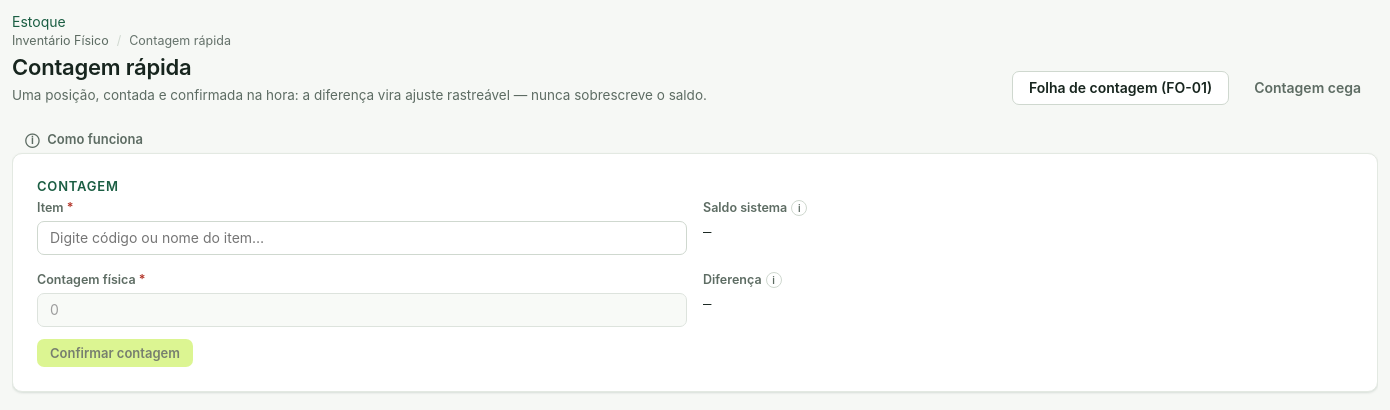
Inventário Físico — guarda de alterações não salvas › escolher o item é escopo, não contagem: ainda sai livre
Check: the heading "Contagem rápida" is shown, box [12,54,191,80]
In the dropdown with id "count-item": (362, 238) [37,221,687,255], type "MP-000001"
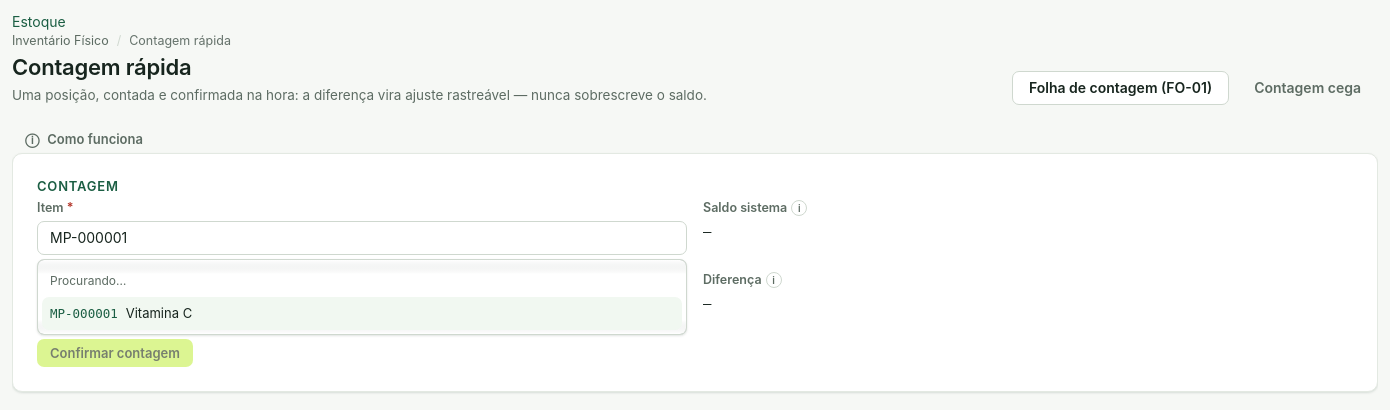
Press the mouse on the option "MP-000001 Vitamina C": (84, 314) [42,297,682,330]
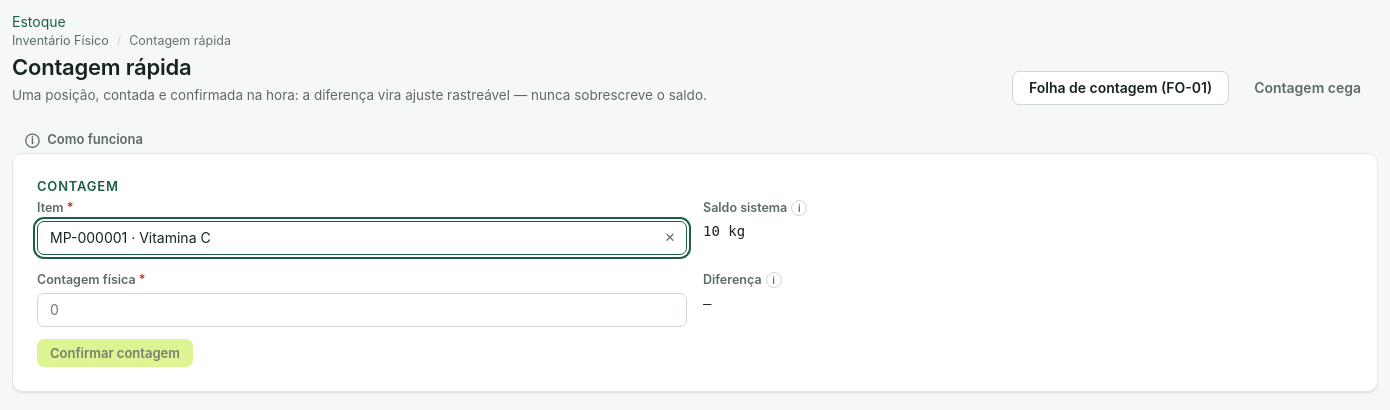
Check: the field with id "count-quantity" is enabled, box [37,293,687,327]
Click the link "Estoque": (39, 22) [12,13,66,30]
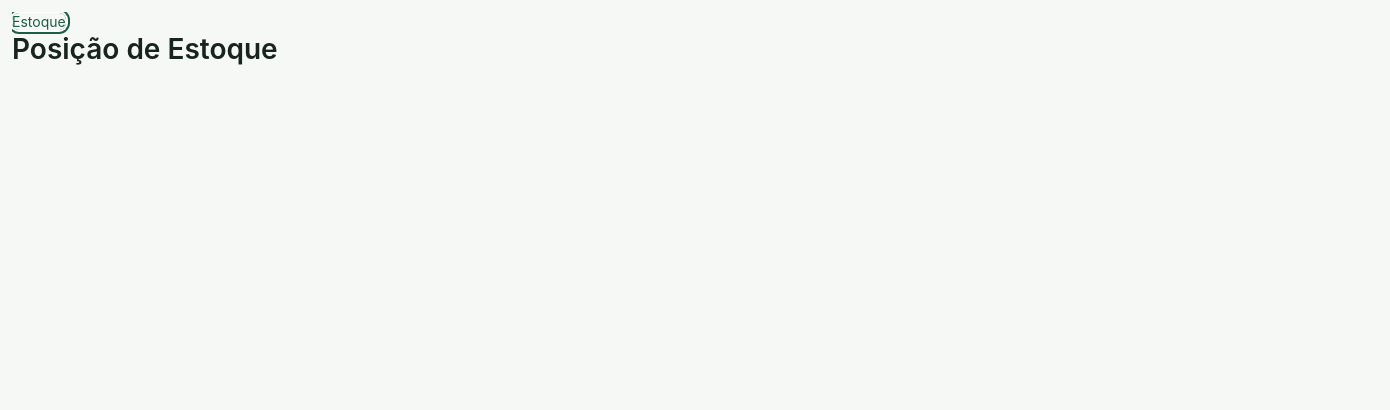
Check: the heading "Posição de Estoque" is shown, box [12,32,278,66]
